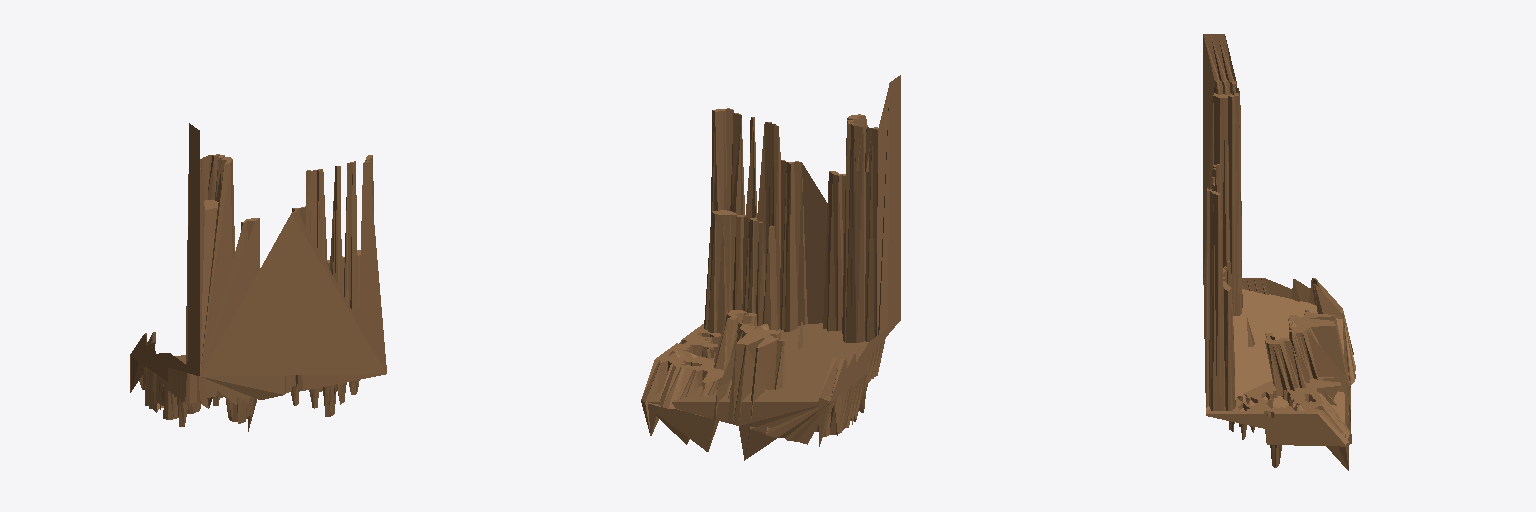
Rendered from mines general.obj.
3 views of the same model, side by side, from view 1: azimuth 30°, elevation 25°; view 2: azimuth 150°, elevation 25°; view 3: azimuth 270°, elevation 25° (orthographic).
Parts seen in each view (by area): view 1: mines general; view 2: mines general; view 3: mines general.
Boxes of the visible parts, box(x1,y1,x2,y2) form: mines general: box(130, 123, 386, 431); mines general: box(641, 75, 900, 460); mines general: box(1203, 34, 1355, 470).
Size of the model in its own units: 19588 by 34996 by 13795.